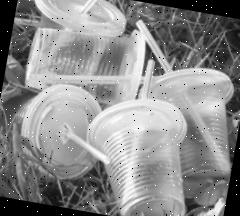general: (133, 18, 173, 73), (64, 128, 112, 166), (141, 58, 157, 101), (81, 0, 98, 12)
plastic: (138, 61, 240, 188), (24, 24, 146, 105)
